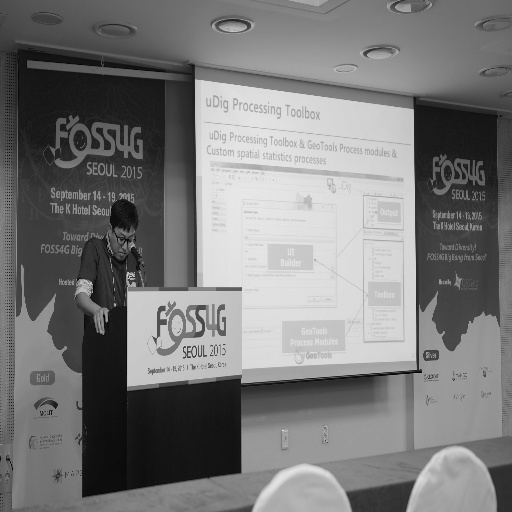hand: (91, 303, 109, 336)
